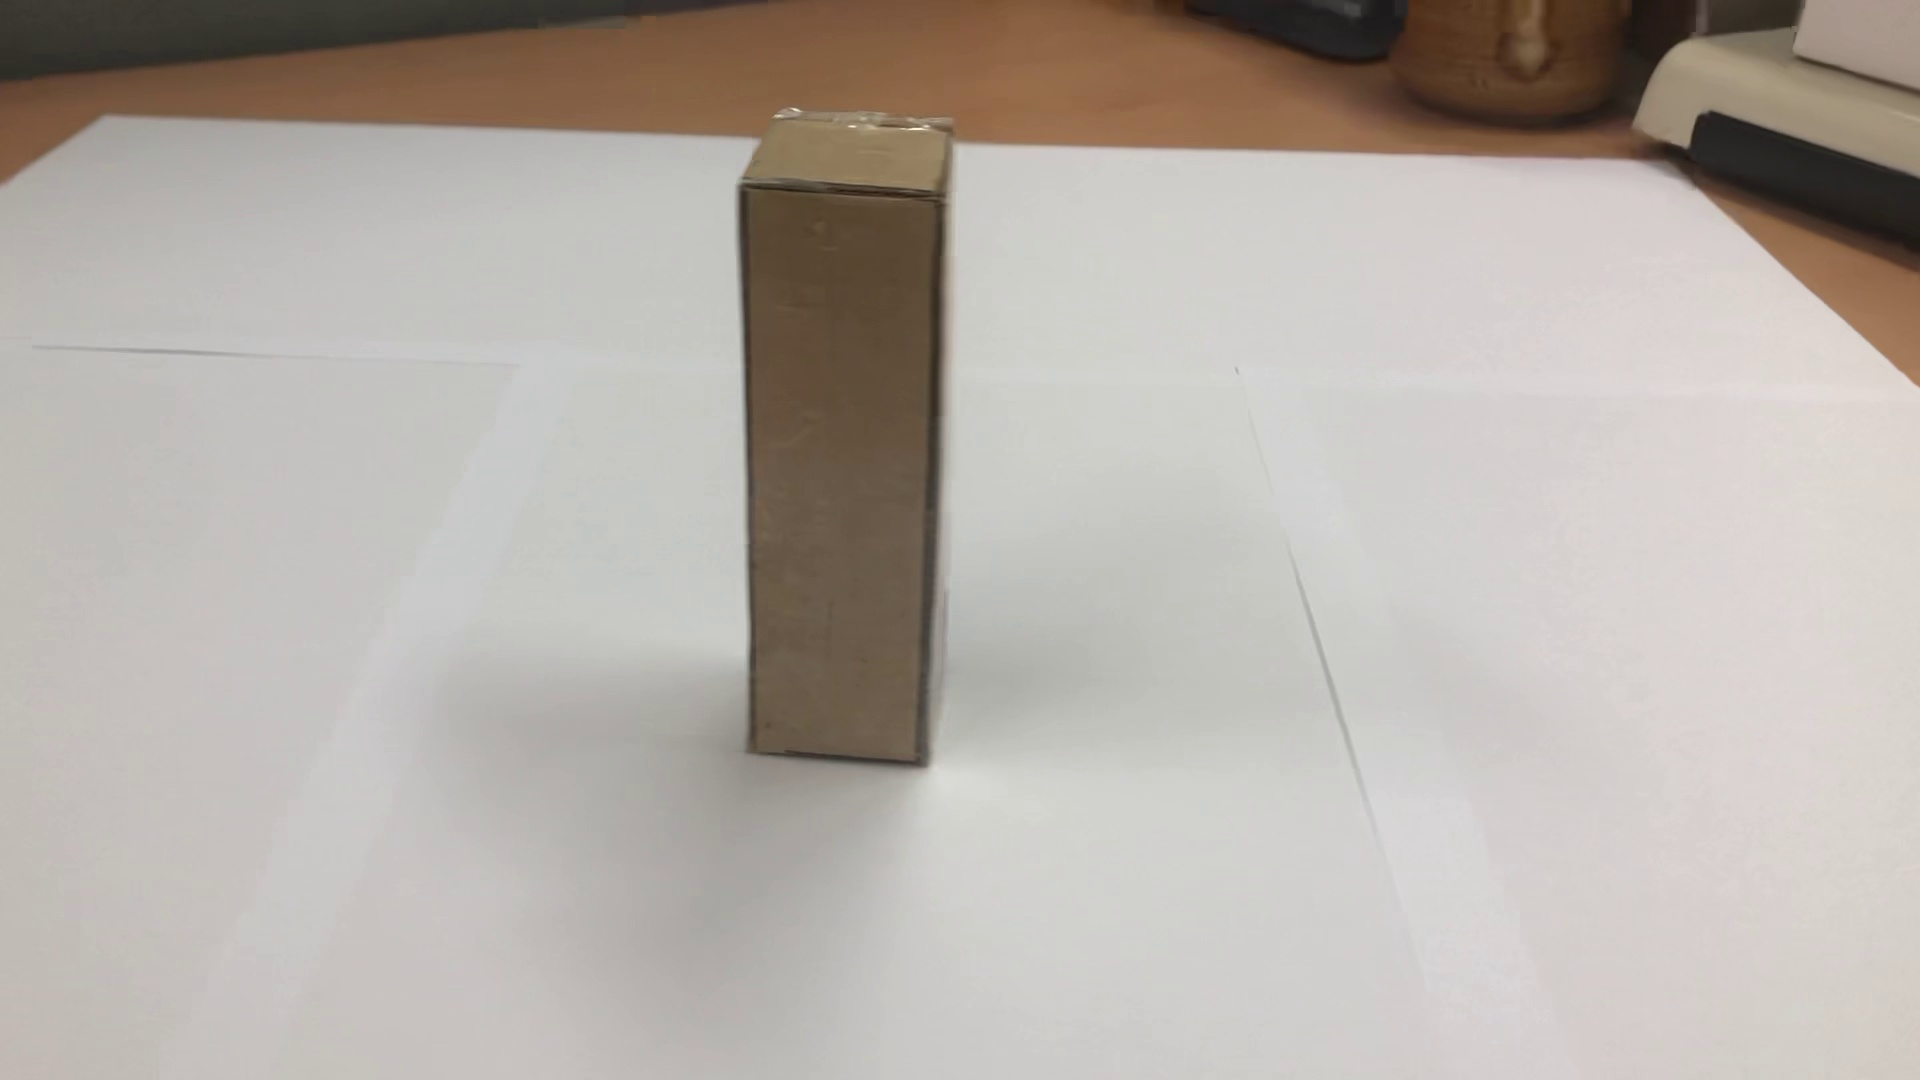box: (727, 73, 976, 798)
